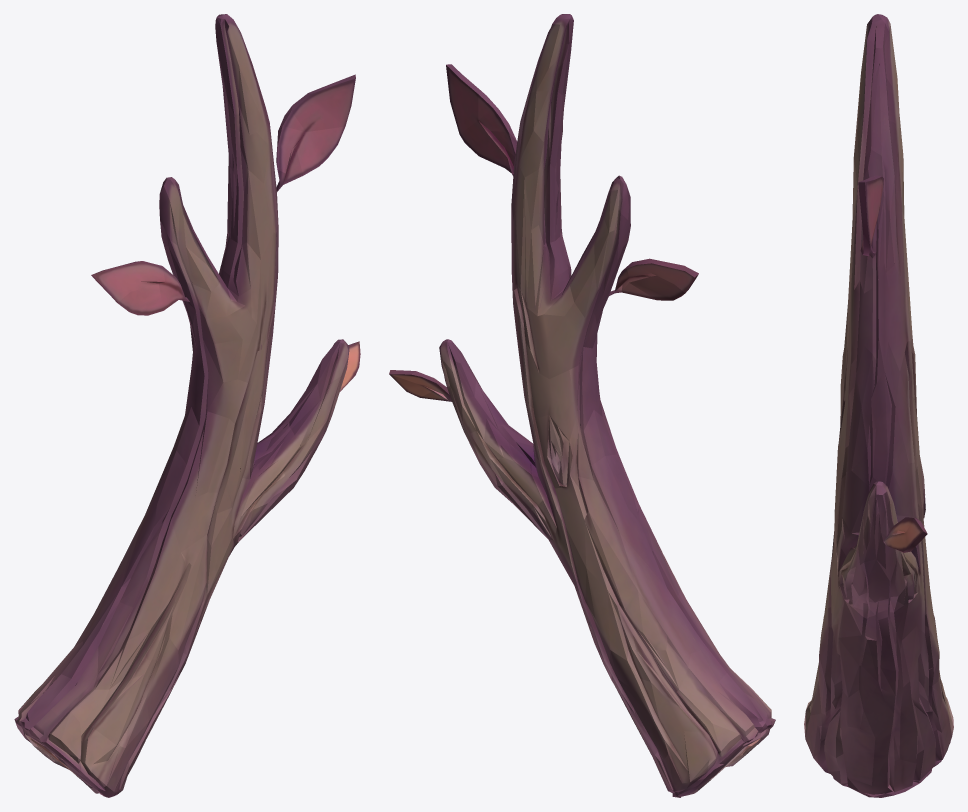
Rendered from fennal-bois-4.glb.
The picture shows the model from 3 angles, left to right: view 1: azimuth 30°, elevation 25°; view 2: azimuth 150°, elevation 25°; view 3: azimuth 270°, elevation 25°; orthographic projection. The views are drawn at different scales.
Visible parts, largest first — view 1: geometry_0; view 2: geometry_0; view 3: geometry_0.
Part boxes in pixels (x1,y1,x2,y2): geometry_0: (14, 14, 360, 797); geometry_0: (389, 14, 775, 797); geometry_0: (804, 14, 953, 797).
Size of the model in its own units: 0.9484 by 1.9 by 0.305.
Materials: 1 (1 with a texture image).
